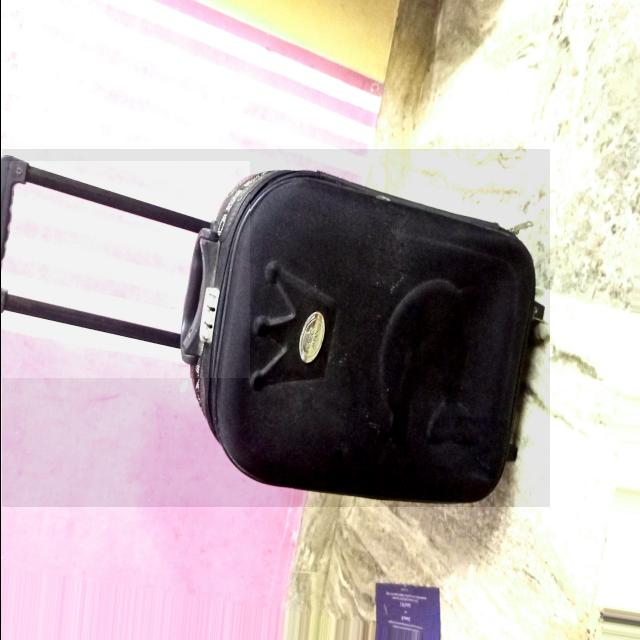Bag: (2, 161, 553, 512)
Handle: (3, 158, 220, 377)
